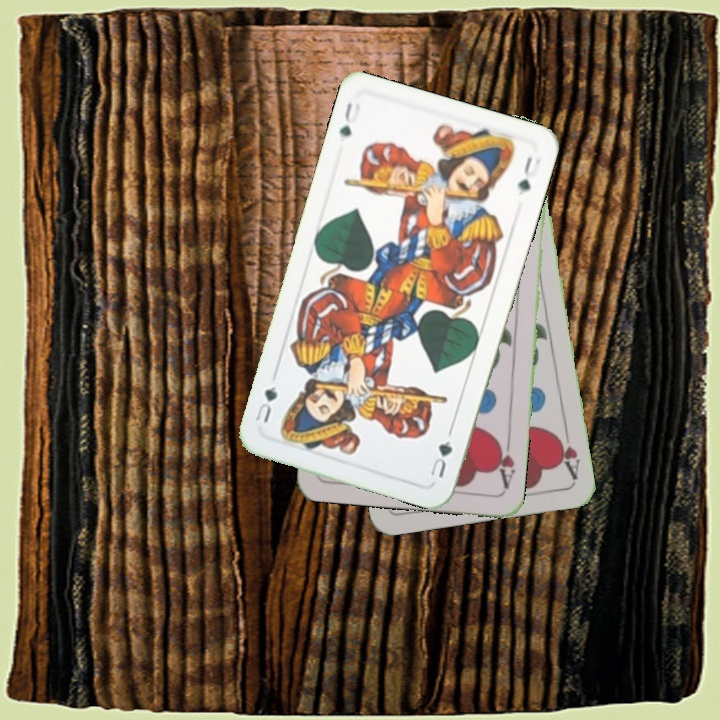GU: (426, 436, 455, 481), (335, 98, 363, 140)
HA: (552, 423, 583, 482), (491, 433, 518, 491)
